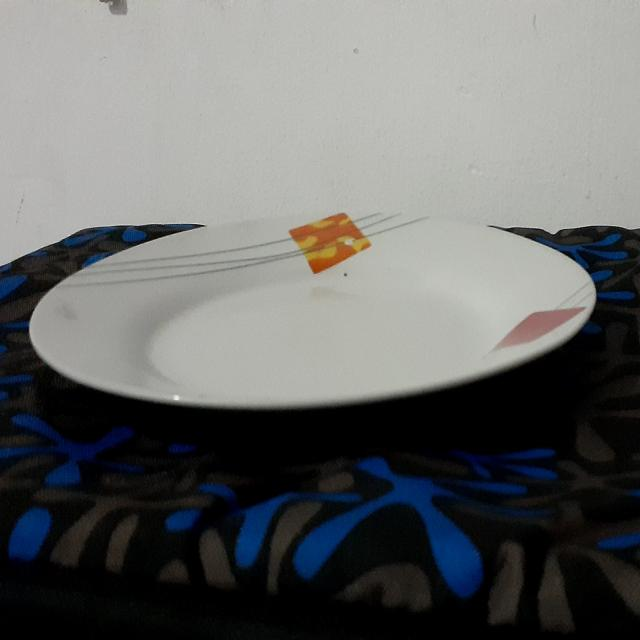non-organic waste: (27, 182, 600, 445)
